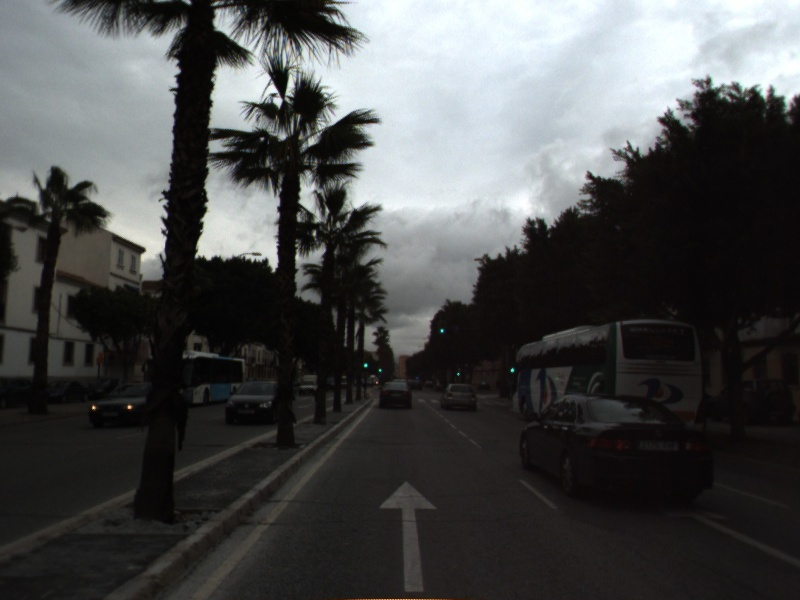STRAIGHT: (662, 499, 800, 569), (375, 476, 442, 595)
